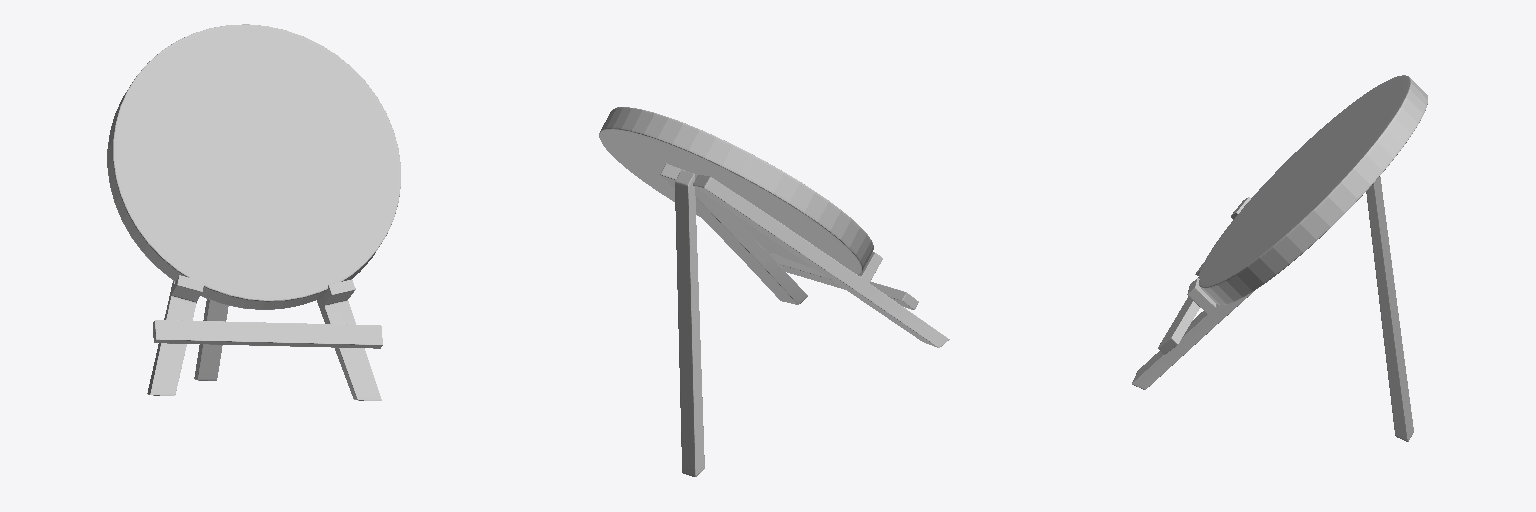
The model's file is 10480_Archery_target_v1_max2011_iteration-2.obj.
The picture shows the model from 3 angles: view 1: azimuth 30°, elevation 25°; view 2: azimuth 150°, elevation 25°; view 3: azimuth 270°, elevation 25°; orthographic projection.
Parts seen in each view (by area): view 1: 10480_archery_target Mesh; view 2: 10480_archery_target Mesh; view 3: 10480_archery_target Mesh.
Part boxes in pixels (left/top/right/bottom): 10480_archery_target Mesh: left=107, top=24, right=400, bottom=400; 10480_archery_target Mesh: left=599, top=107, right=949, bottom=476; 10480_archery_target Mesh: left=1132, top=75, right=1427, bottom=441.
Size of the model in its own units: 85.49 by 100 by 76.5.